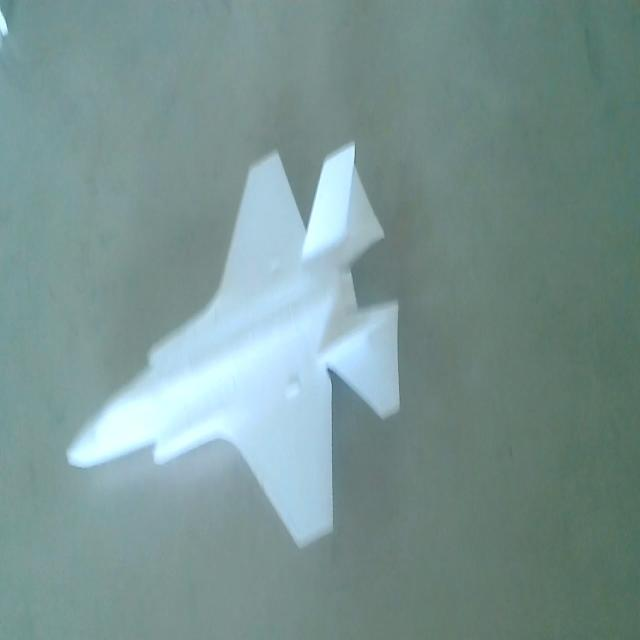Jet: (65, 137, 408, 549)
